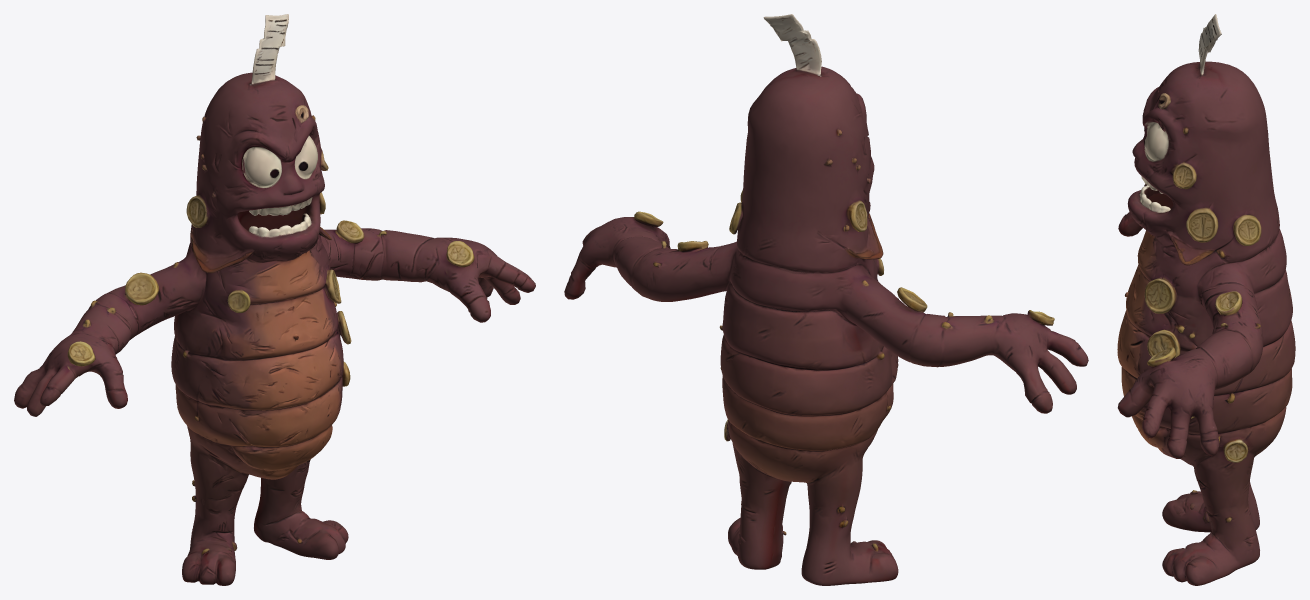
The model's file is coupon_leech.glb.
3 renders of one model, left to right at view 1: azimuth 30°, elevation 25°; view 2: azimuth 150°, elevation 25°; view 3: azimuth 270°, elevation 25°, orthographic. The views are drawn at different scales.
Visible parts, largest first — view 1: coupon_leech; view 2: coupon_leech; view 3: coupon_leech.
Part boxes in pixels (x1=…): coupon_leech: x1=14, y1=14, x2=535, y2=585; coupon_leech: x1=564, y1=14, x2=1088, y2=585; coupon_leech: x1=1117, y1=14, x2=1295, y2=585.
Size of the model in its own units: 0.7686 by 0.8 by 0.2391.
1 material, 1 textured.
